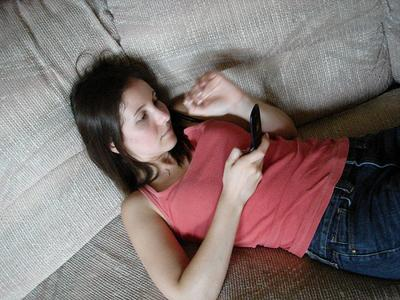person: (70, 56, 400, 300)
